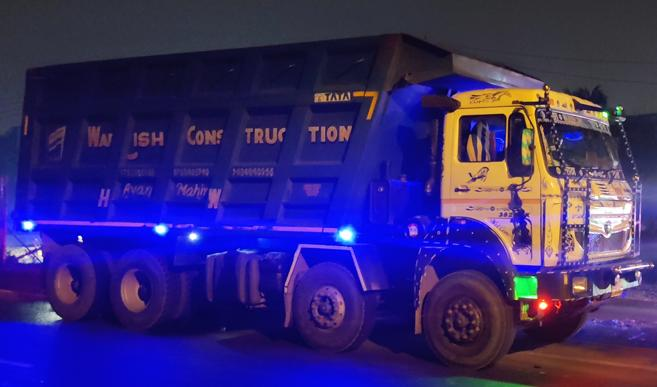Truck: (20, 30, 649, 369)
